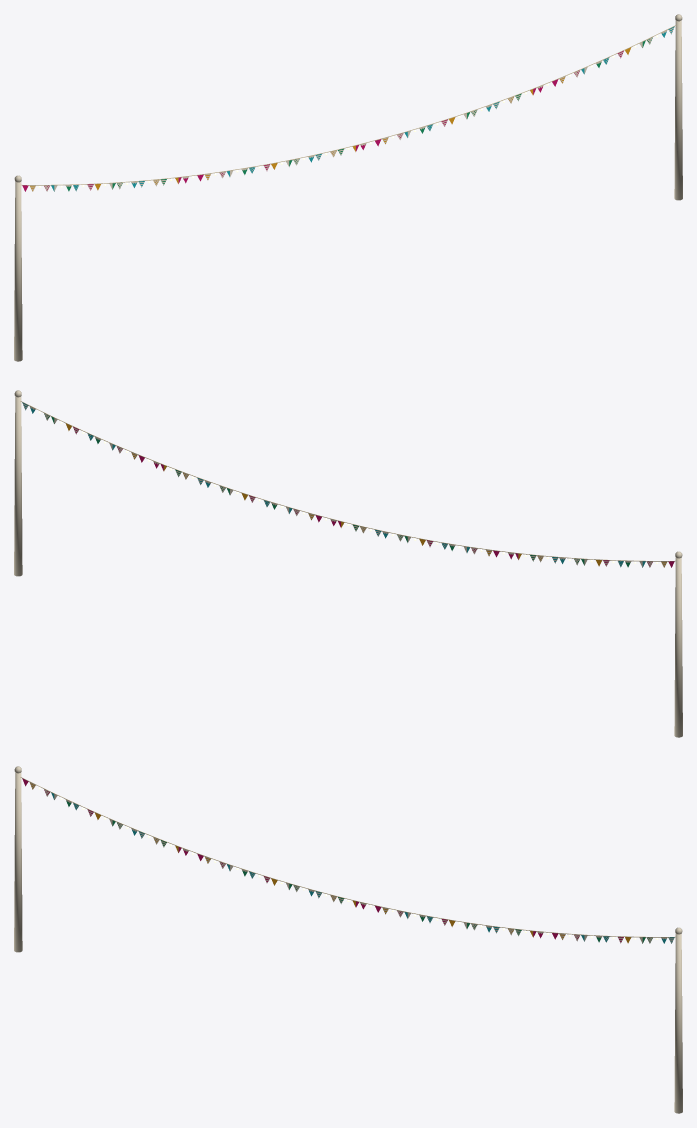
The model's file is bunting.glb.
3 renders of one model, top to bottom at view 1: azimuth 30°, elevation 25°; view 2: azimuth 150°, elevation 25°; view 3: azimuth 330°, elevation 25°, orthographic.
Parts seen in each view (by area): view 1: bunting; view 2: bunting; view 3: bunting.
Part boxes in pixels (bbox=[...]): bunting: bbox=[14, 14, 682, 361]; bunting: bbox=[14, 390, 682, 737]; bunting: bbox=[14, 766, 682, 1113].
Size of the model in its own units: 18 by 4.74 by 0.2.
Materials: 4 (1 with a texture image).
